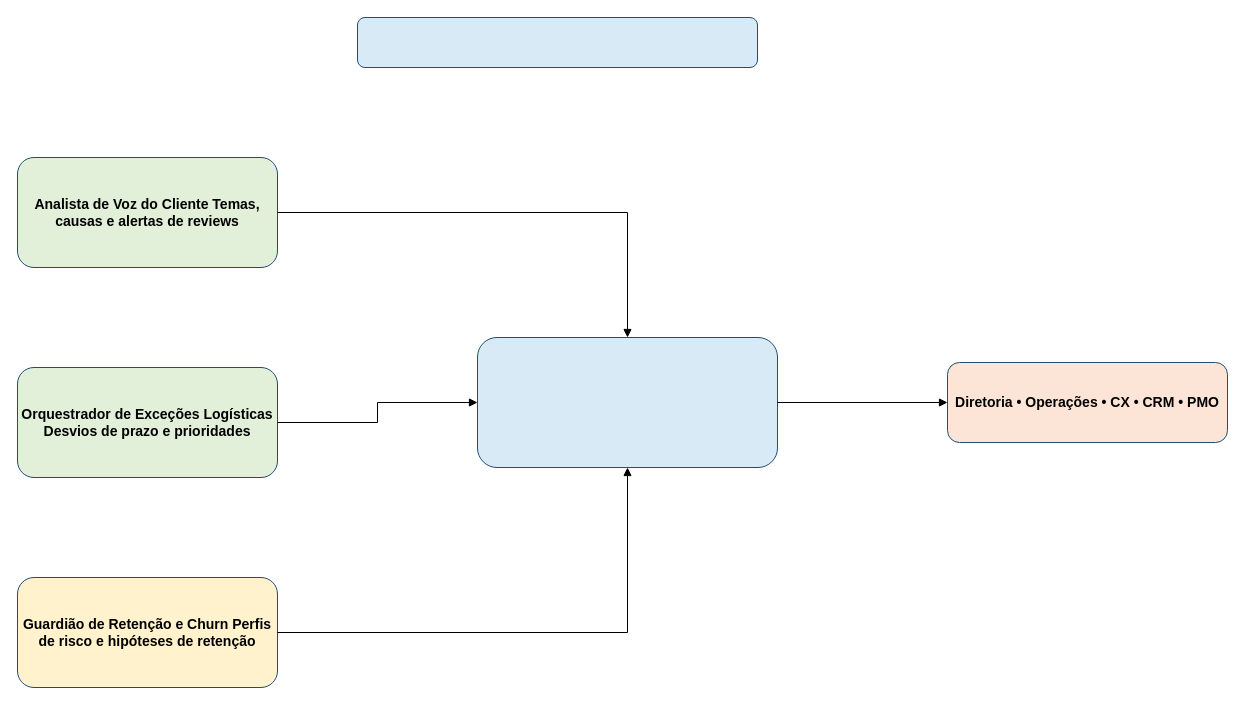
Some shapes in this 1245 by 705 pixel diagram are drawn without their labels. The centre of each missing label's shape, as x and y in pixels:
"Copiloto Executivo de Eficiência Prioridades, riscos e recomendações" belongs at (x=627, y=402).
"Mapa Inicial de Agentes de IA" belongs at (x=557, y=42).
